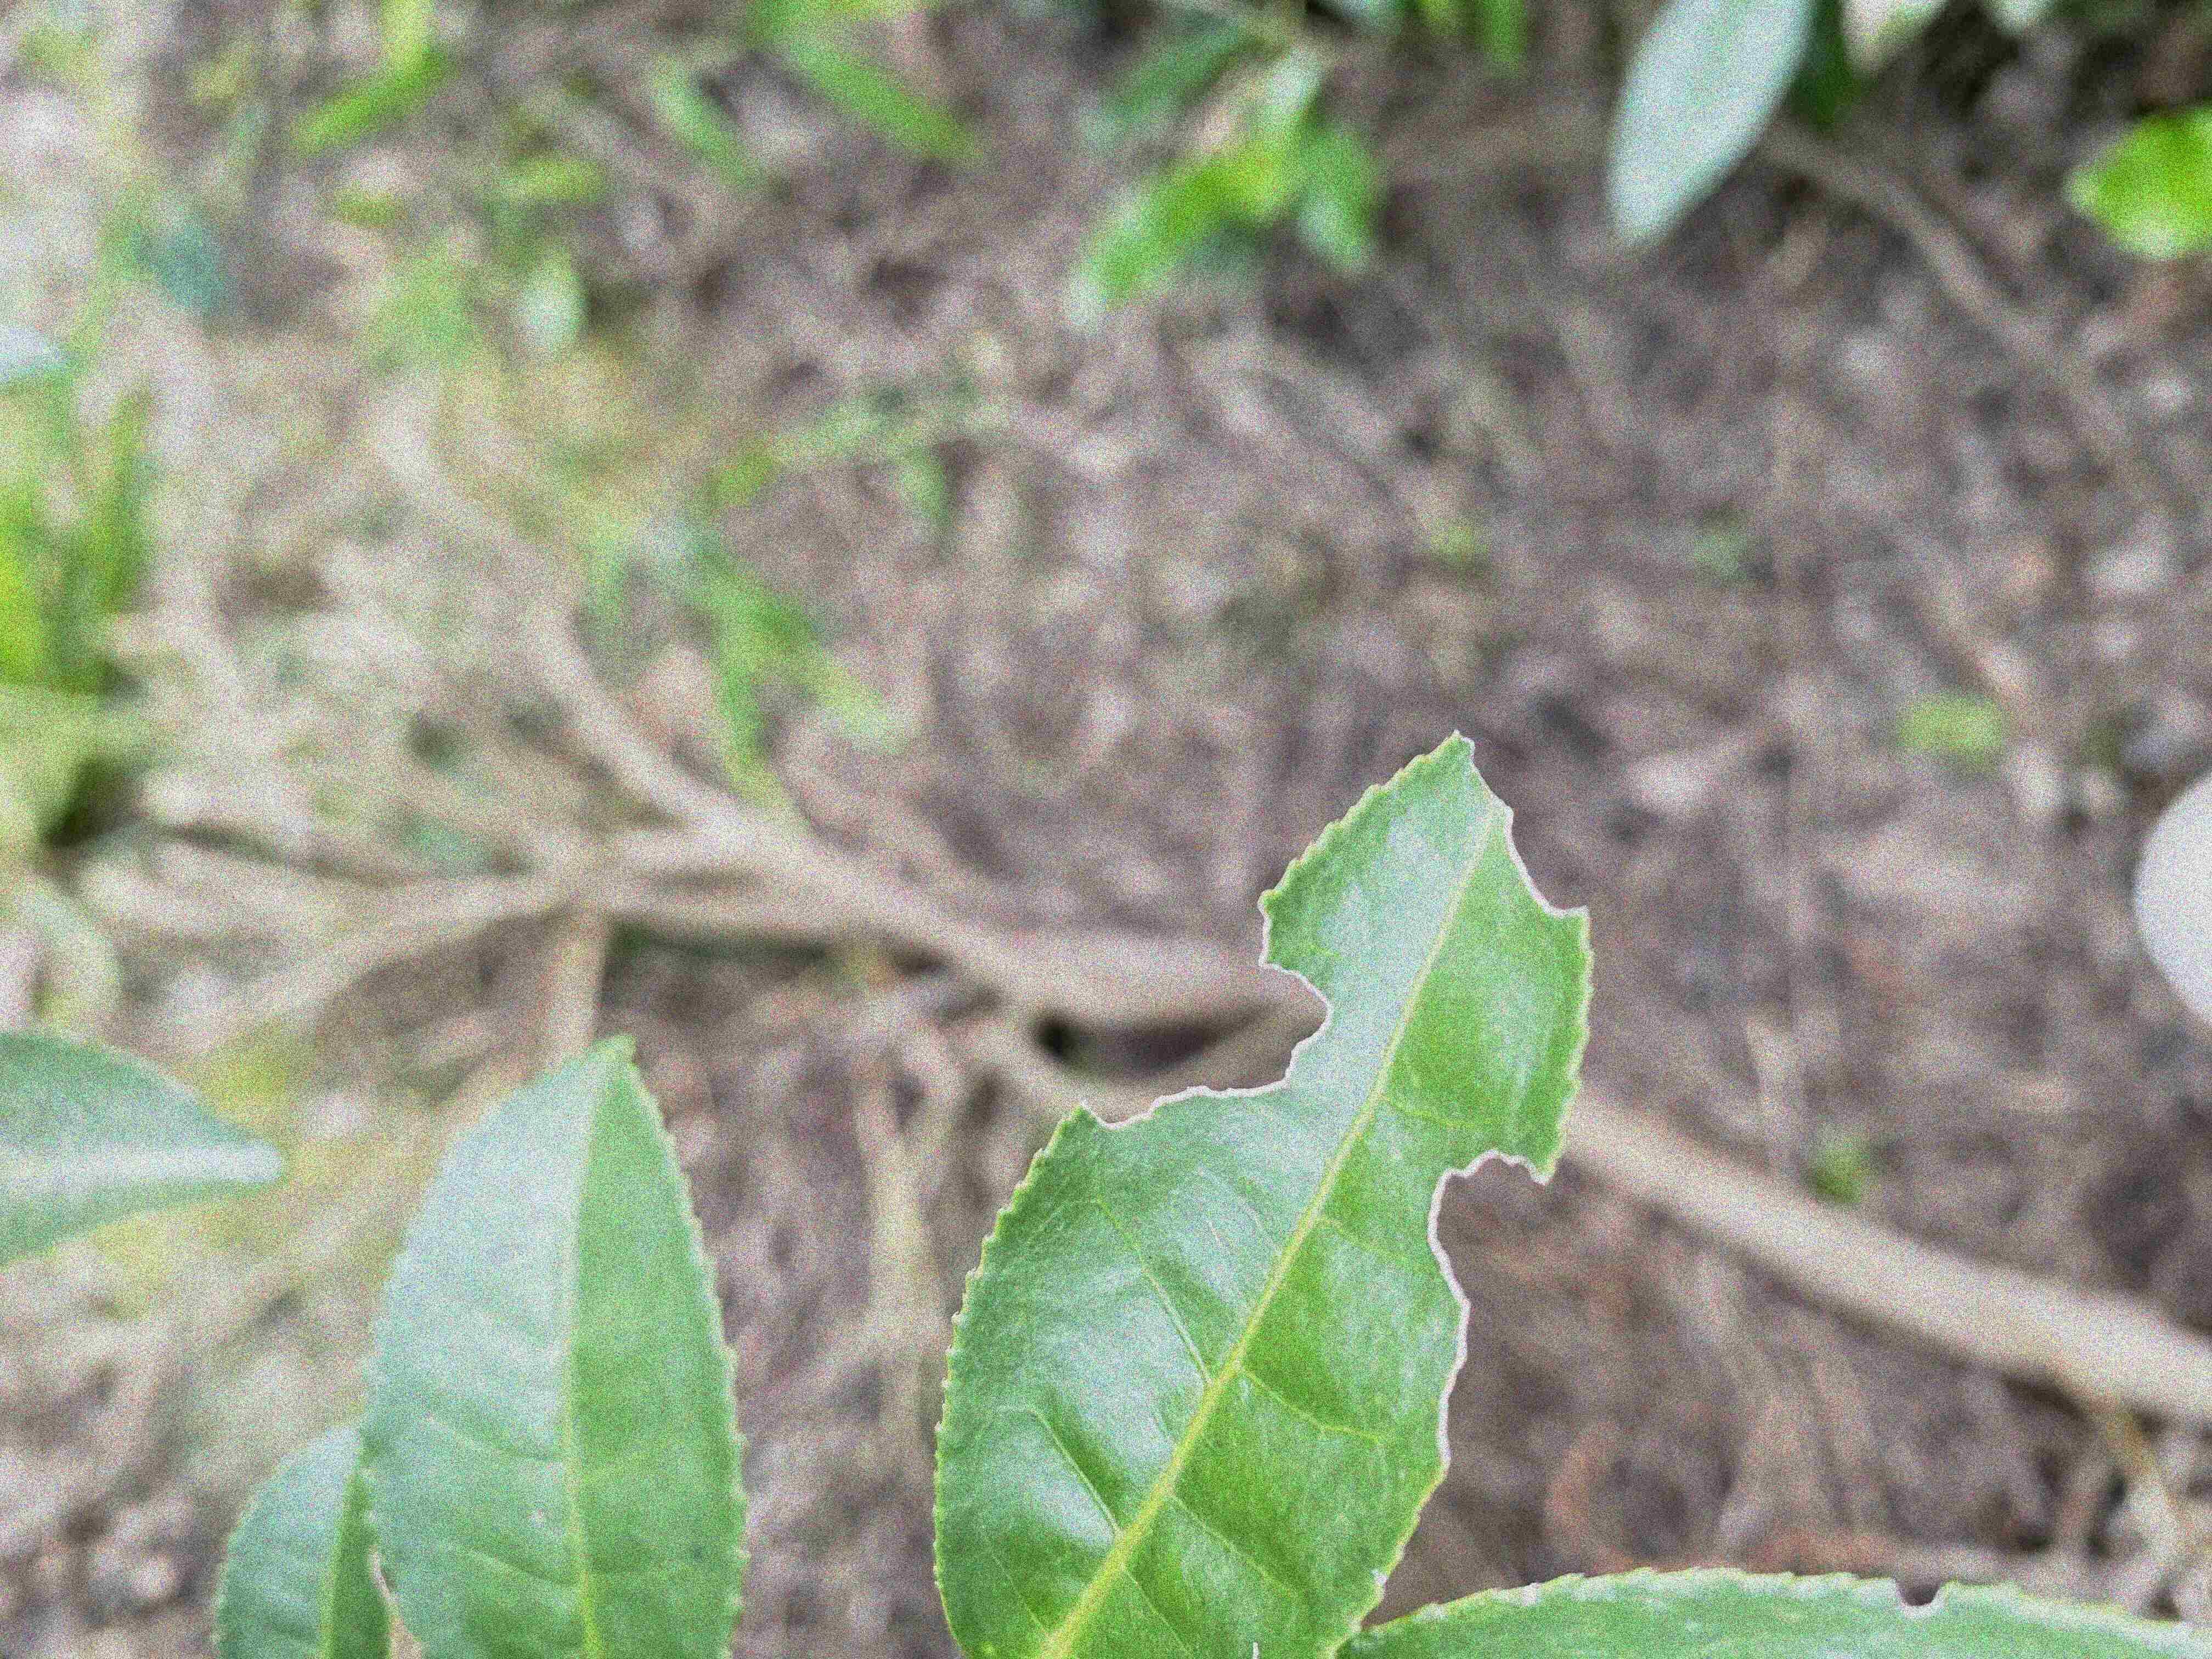chihuo_high: (930, 727, 1594, 1657)
